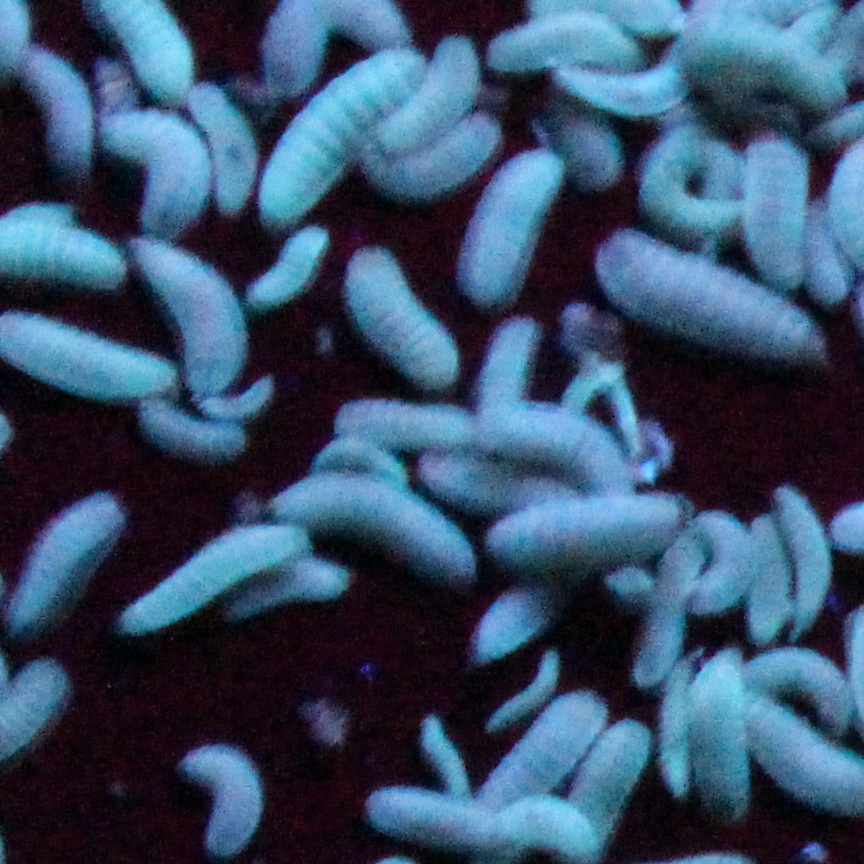larve: (585, 227, 825, 364), (267, 47, 414, 218), (260, 475, 470, 578), (127, 524, 309, 631), (474, 686, 610, 822), (481, 489, 698, 569), (343, 244, 458, 393), (14, 484, 125, 635), (1, 318, 178, 402), (465, 144, 558, 302), (674, 16, 839, 102), (96, 111, 207, 238), (150, 246, 243, 386), (494, 406, 636, 496), (640, 127, 747, 233), (176, 747, 272, 858), (687, 647, 750, 815), (732, 644, 861, 726), (747, 106, 807, 282), (767, 487, 836, 638), (550, 47, 621, 191), (376, 118, 498, 196), (130, 393, 247, 469), (625, 546, 689, 684), (21, 55, 89, 180), (359, 786, 496, 847), (407, 31, 472, 142), (198, 87, 256, 209), (483, 646, 567, 729), (336, 398, 476, 447), (694, 504, 758, 607), (485, 307, 529, 438), (485, 793, 592, 842), (250, 229, 327, 296), (414, 711, 467, 800), (665, 653, 698, 795)
